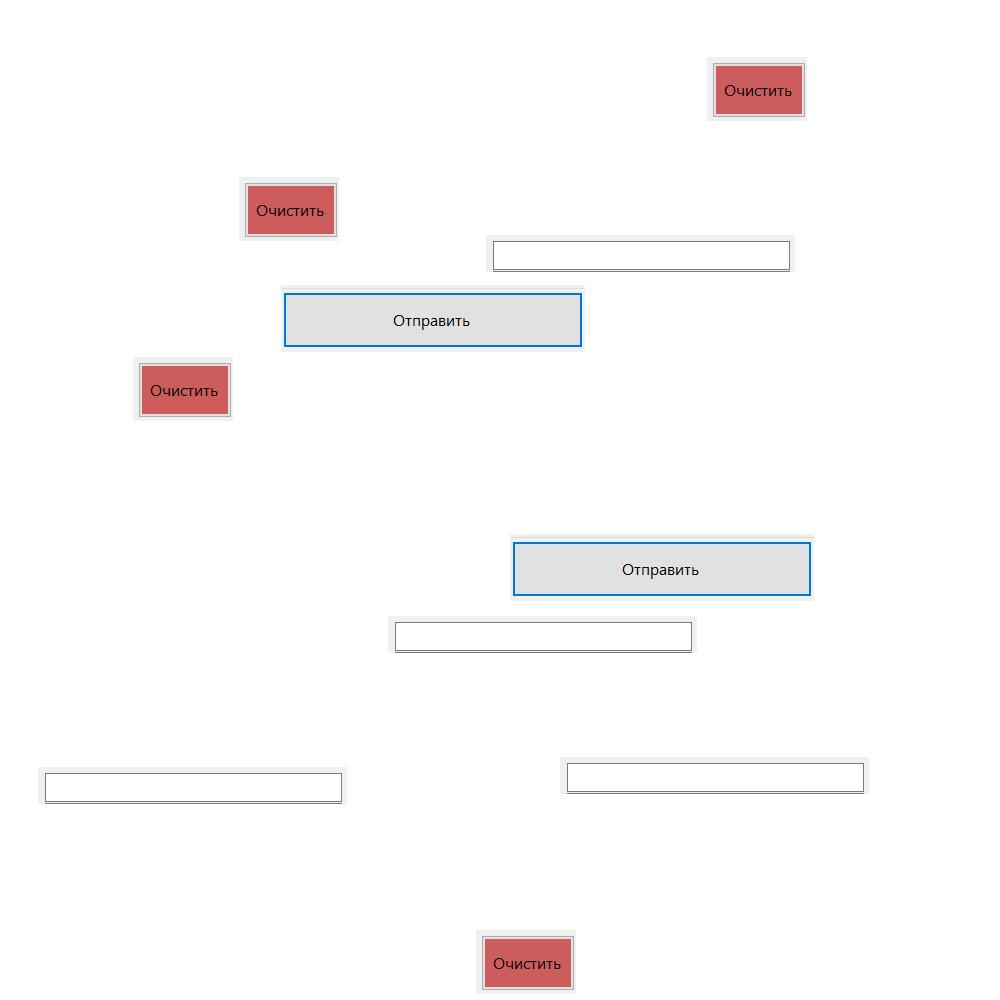Button: (510, 534, 814, 601), (281, 285, 585, 352), (133, 357, 233, 421), (239, 177, 339, 241), (476, 930, 576, 994), (707, 57, 807, 121)
EditText-: (486, 235, 795, 272), (38, 767, 347, 804), (388, 616, 697, 653), (560, 757, 869, 794)
